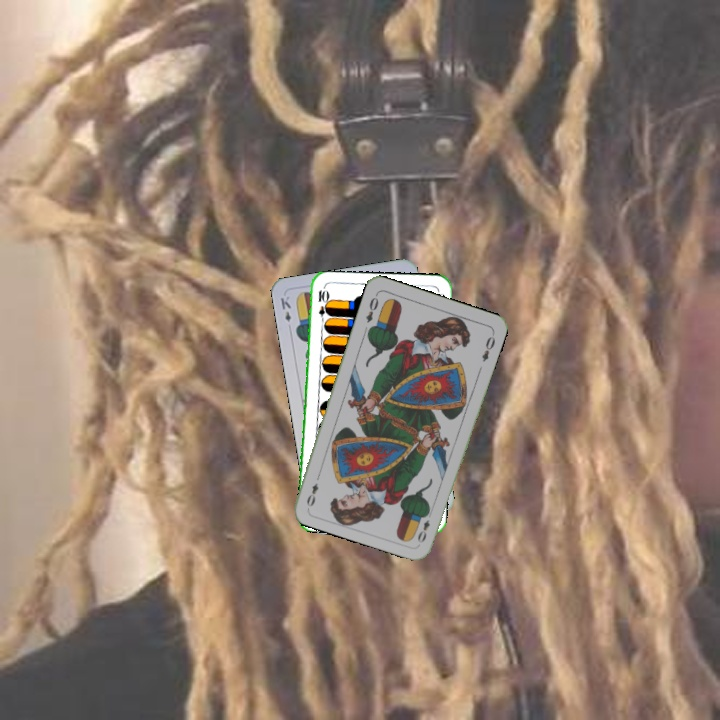E10: (314, 286, 327, 327)
EK: (276, 292, 293, 325)
EO: (414, 507, 434, 545), (362, 293, 381, 325)
